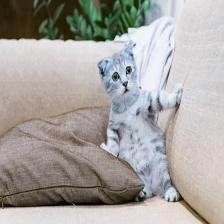kedo: (99, 44, 182, 201)
